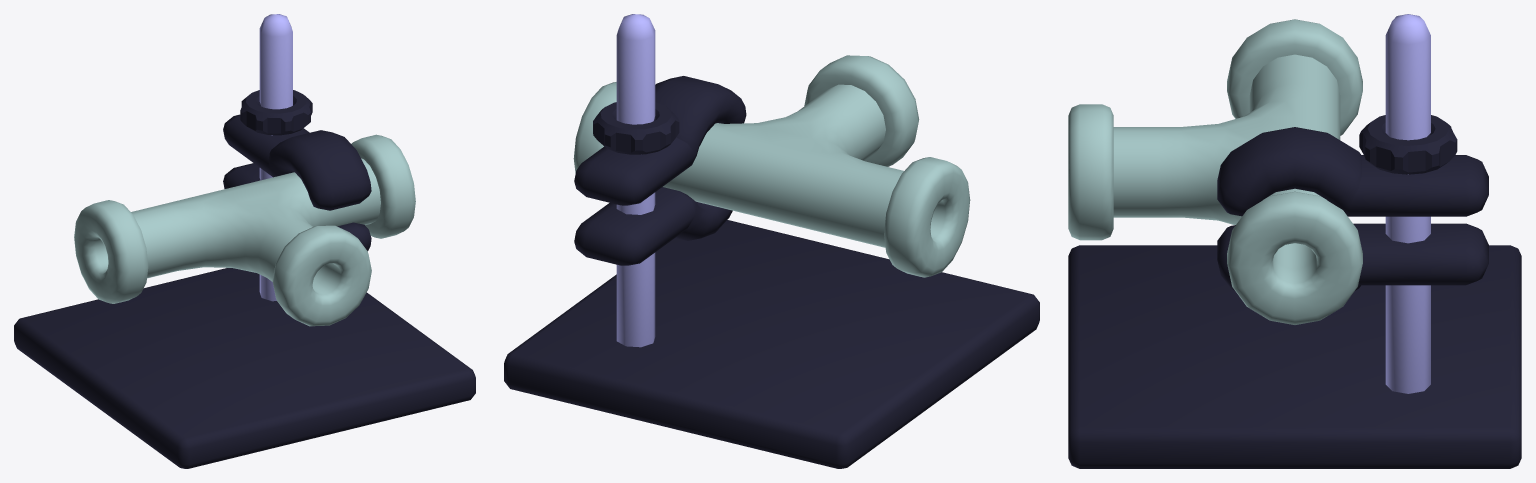
The model's file is LastLuna_Model_Station_Pipe_Tri.fbx.
The picture shows the model from 3 angles, left to right: view 1: azimuth 30°, elevation 25°; view 2: azimuth 150°, elevation 25°; view 3: azimuth 270°, elevation 25°; orthographic projection. The views are drawn at different scales.
Parts seen in each view (by area): view 1: Stand_Base_Small001, Pipe_Tri001, Pipe_Arm_Clamp_Upper001, Stand_Pole_Small001, Pipe_Arm_Clamp_Handle001, Pipe_Arm_Clamp_Lower001; view 2: Stand_Base_Small001, Pipe_Tri001, Pipe_Arm_Clamp_Upper001, Stand_Pole_Small001, Pipe_Arm_Clamp_Lower001, Pipe_Arm_Clamp_Handle001; view 3: Stand_Base_Small001, Pipe_Tri001, Pipe_Arm_Clamp_Upper001, Stand_Pole_Small001, Pipe_Arm_Clamp_Lower001, Pipe_Arm_Clamp_Handle001.
Boxes of the visible parts, x1,y1,x2,y2 form: Stand_Base_Small001: (14,268,475,468); Pipe_Tri001: (74,134,415,326); Pipe_Arm_Clamp_Upper001: (223,114,371,210); Stand_Pole_Small001: (259,14,292,301); Pipe_Arm_Clamp_Handle001: (240,90,312,135); Pipe_Arm_Clamp_Lower001: (223,163,371,250); Stand_Base_Small001: (504,220,1039,468); Pipe_Tri001: (573,55,970,277); Pipe_Arm_Clamp_Upper001: (574,76,746,205); Stand_Pole_Small001: (616,14,655,347); Pipe_Arm_Clamp_Lower001: (574,187,732,265); Pipe_Arm_Clamp_Handle001: (593,102,679,154); Stand_Base_Small001: (1068,245,1521,468); Pipe_Tri001: (1068,19,1362,324); Pipe_Arm_Clamp_Upper001: (1217,127,1488,216); Stand_Pole_Small001: (1385,14,1430,393); Pipe_Arm_Clamp_Lower001: (1217,223,1488,290); Pipe_Arm_Clamp_Handle001: (1359,115,1457,174).
Bounding box in the file's own units: 100 × 100 × 100.
